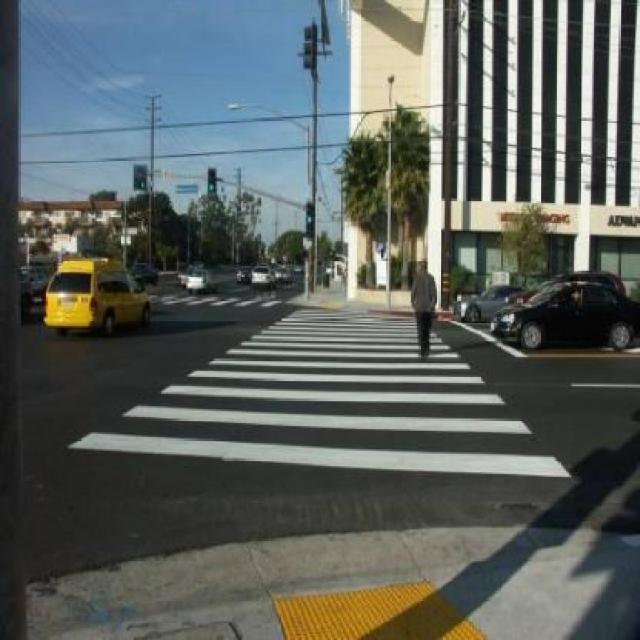vehicle: (41, 255, 157, 347), (286, 294, 296, 302)
